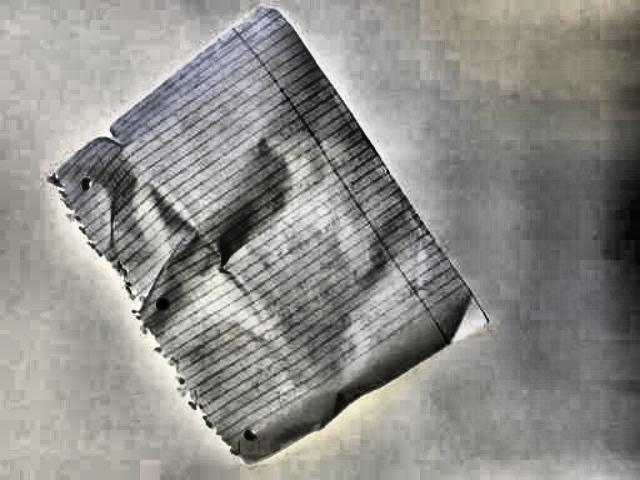Paper: (39, 5, 498, 467)
